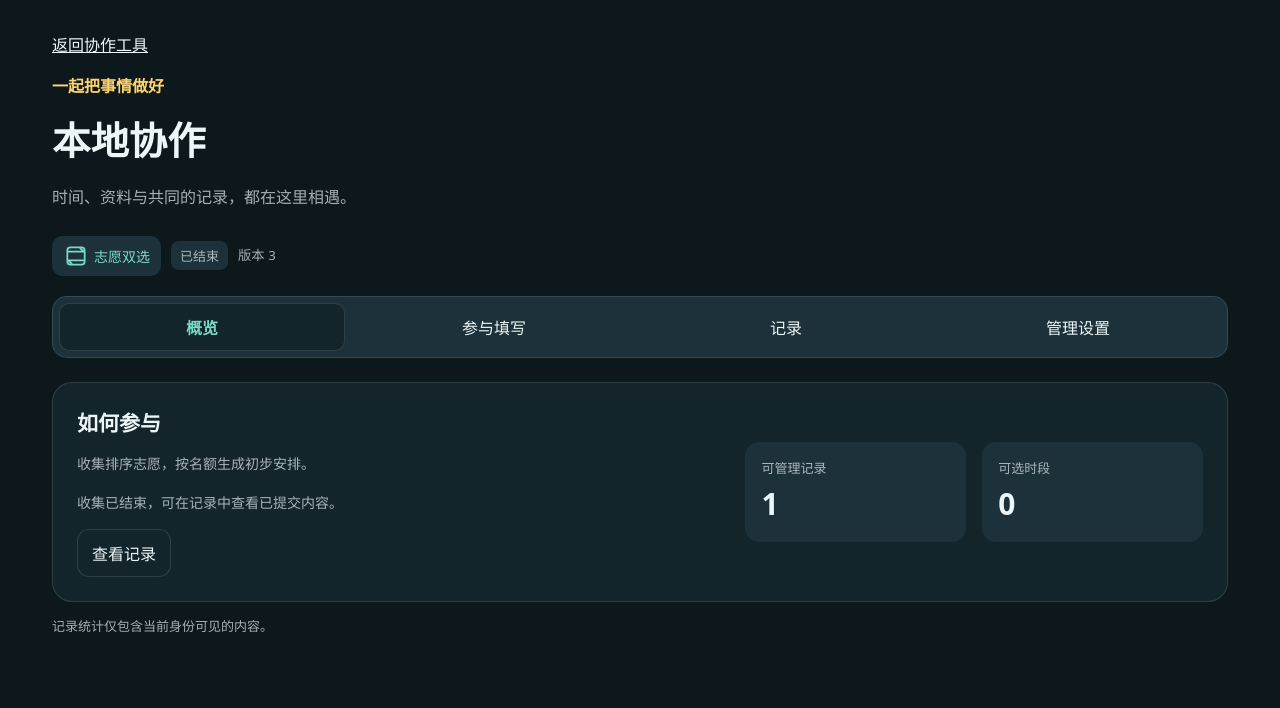
Test: keeps volunteer decisions and manager allocation available after collection closes
Click the tab "记录" at x=786, y=326, box [643,302,929,350]
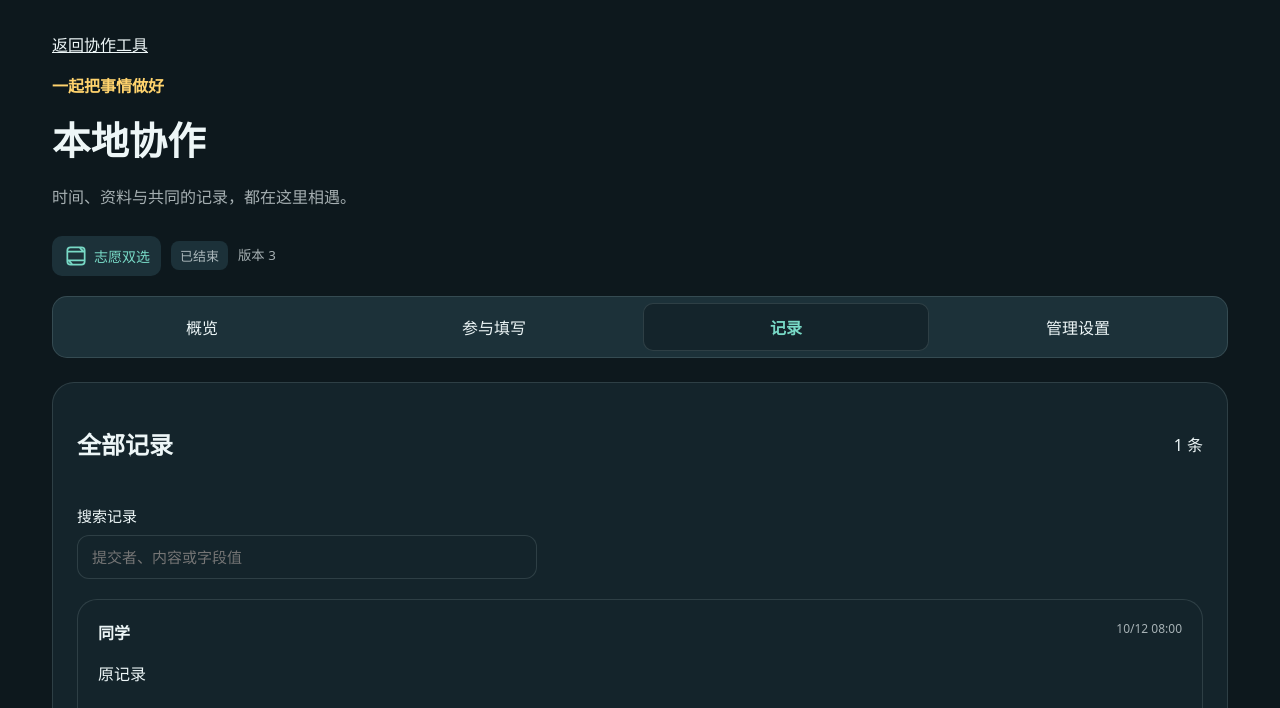
Click the tab "管理设置" at x=1078, y=326, box [935,302,1221,350]
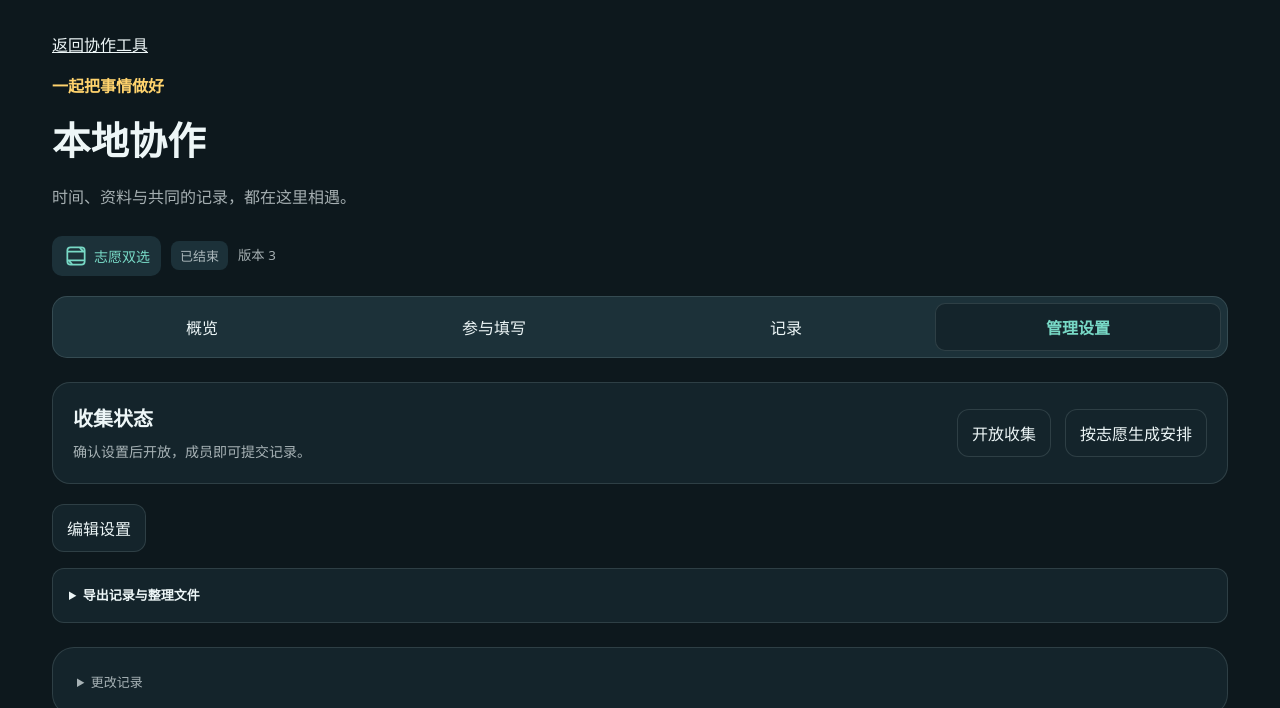
Expected: the button "按志愿生成安排" is enabled, [1065,409,1207,457]
